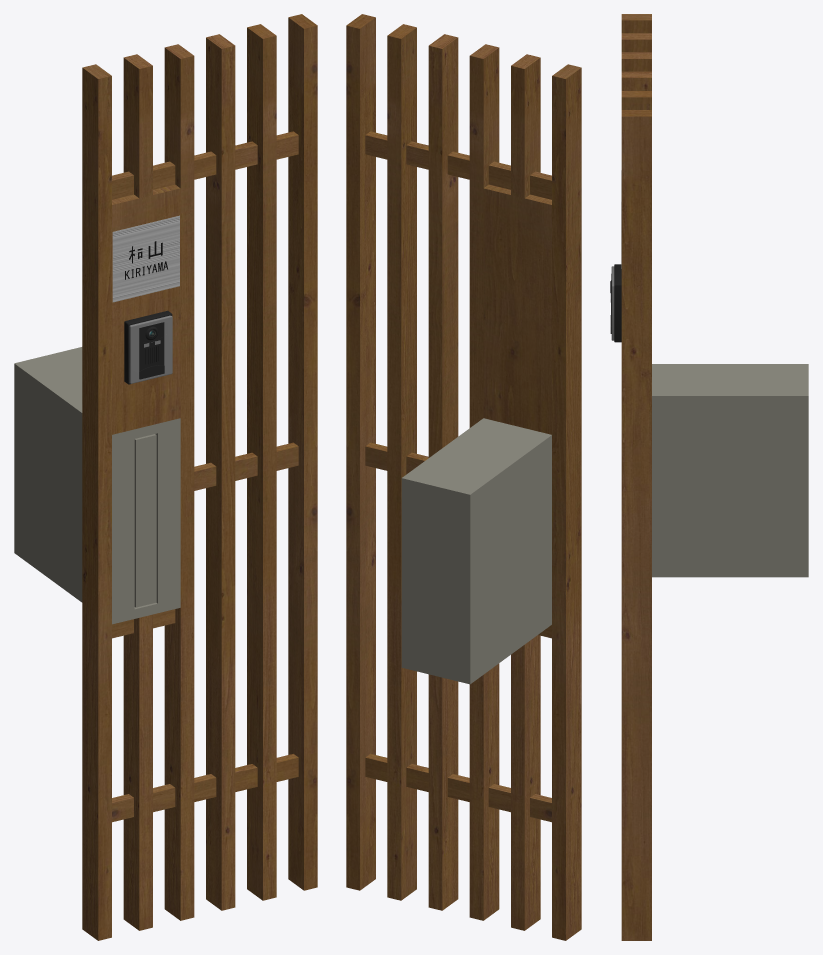
The model's file is designmonchu-kousi_naturalpine.fbx.
The picture shows the model from 3 angles, left to right: view 1: azimuth 30°, elevation 25°; view 2: azimuth 150°, elevation 25°; view 3: azimuth 270°, elevation 25°; orthographic projection. The views are drawn at different scales.
Visible parts, largest first — view 1: designmonchu-kousi_naturalpine2; view 2: designmonchu-kousi_naturalpine2; view 3: designmonchu-kousi_naturalpine2.
Boxes of the visible parts, <box> form: designmonchu-kousi_naturalpine2: <box>14,14,317,940</box>; designmonchu-kousi_naturalpine2: <box>346,14,581,940</box>; designmonchu-kousi_naturalpine2: <box>610,14,808,940</box>.
Size of the model in its own units: 48 by 180 by 39.3.
Materials: 7 (6 with a texture image).
